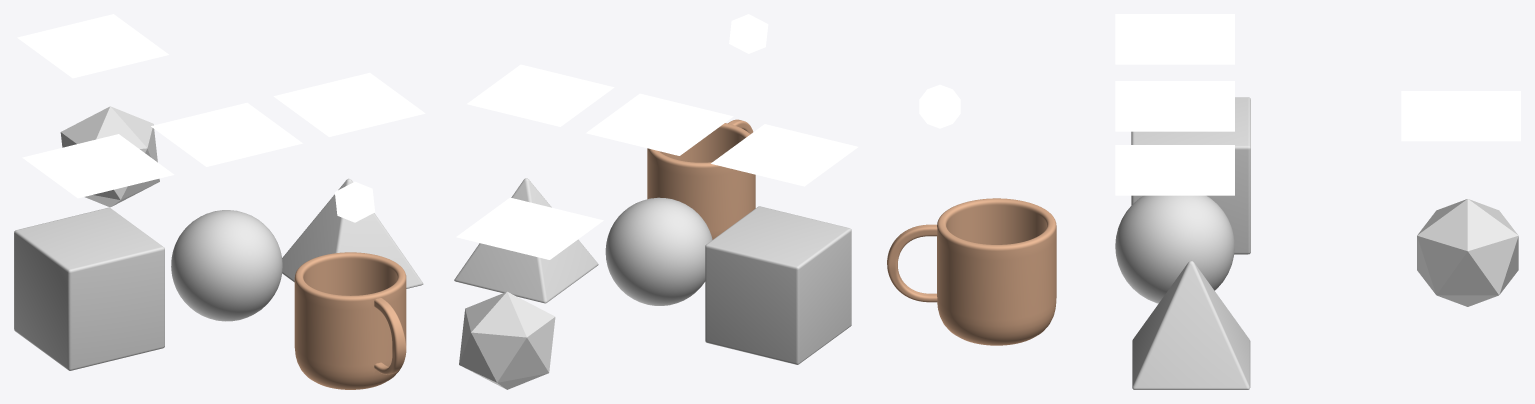
The model's file is simple glass test.gltf.
The picture shows the model from 3 angles, left to right: view 1: azimuth 30°, elevation 25°; view 2: azimuth 150°, elevation 25°; view 3: azimuth 270°, elevation 25°; orthographic projection. The views are drawn at different scales.
Visible parts, largest first — view 1: Cube, Cylinder, Icosphere, Plane.003, Plane.001, Plane.002, Plane.004, Cube.001, Icosphere.001, Icosphere.002; view 2: Cube, Icosphere, Cylinder, Icosphere.001, Cube.001, Plane.001, Plane.002, Plane.003, Plane.004, Icosphere.002; view 3: Cylinder, Cube.001, Icosphere, Icosphere.001, Plane.001, Plane.002, Plane.003, Plane.004, Cube, Icosphere.002.
Boxes of the visible parts, box(x1,y1,x2,y2) form: Cube: box(14, 207, 164, 370); Cylinder: box(294, 252, 406, 389); Icosphere: box(171, 210, 282, 321); Plane.003: box(273, 72, 425, 136); Plane.001: box(151, 102, 302, 166); Plane.002: box(22, 134, 174, 198); Plane.004: box(17, 14, 168, 78); Cube.001: box(282, 178, 423, 288); Icosphere.001: box(60, 106, 159, 207); Icosphere.002: box(334, 181, 374, 222); Cube: box(705, 206, 851, 364); Icosphere: box(605, 197, 712, 305); Cylinder: box(647, 119, 755, 239); Icosphere.001: box(459, 291, 555, 389); Cube.001: box(454, 178, 598, 303); Plane.001: box(586, 93, 733, 155); Plane.002: box(711, 124, 857, 186); Plane.003: box(467, 64, 614, 126); Plane.004: box(456, 197, 603, 259); Icosphere.002: box(729, 14, 768, 53); Cylinder: box(887, 198, 1056, 345); Cube.001: box(1132, 260, 1250, 389); Icosphere: box(1115, 195, 1234, 303); Icosphere.001: box(1417, 199, 1518, 306); Plane.001: box(1115, 81, 1234, 131); Plane.002: box(1115, 14, 1234, 64); Plane.003: box(1115, 145, 1234, 195); Plane.004: box(1401, 91, 1520, 141); Cube: box(1131, 97, 1250, 254); Icosphere.002: box(919, 84, 960, 128).
Size of what is drawn, in the model's own units: 7.35 by 4.33 by 10.6.
